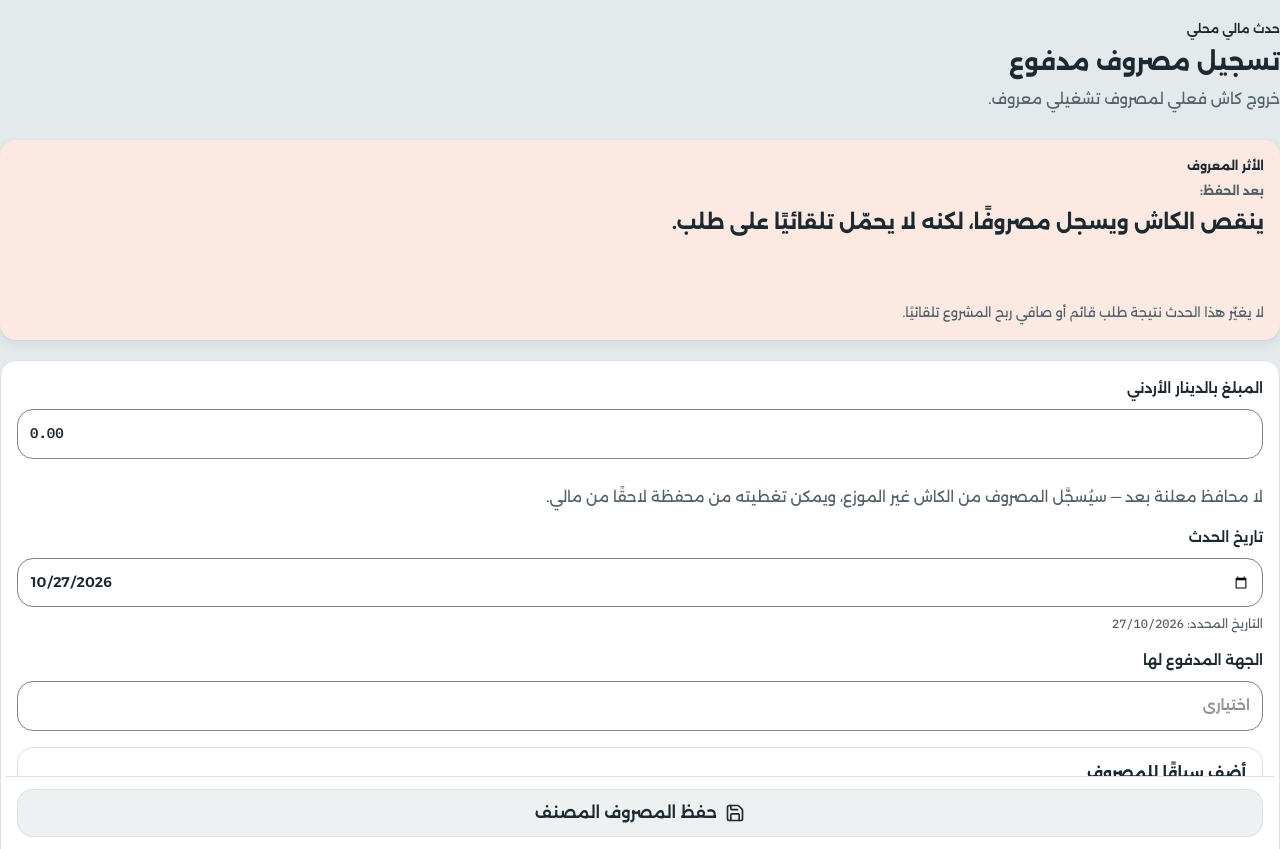
it: FinancialEventEditor guided journey (المجموعة ١) › keeps the path-guidance notes: suppliers link and honest referrals to the implemented homes
The image size is (1280, 849).
Click the text "أضف سياقًا للمصروف".
click(1166, 772)  # box [1087, 763, 1246, 782]
(page scrolled)
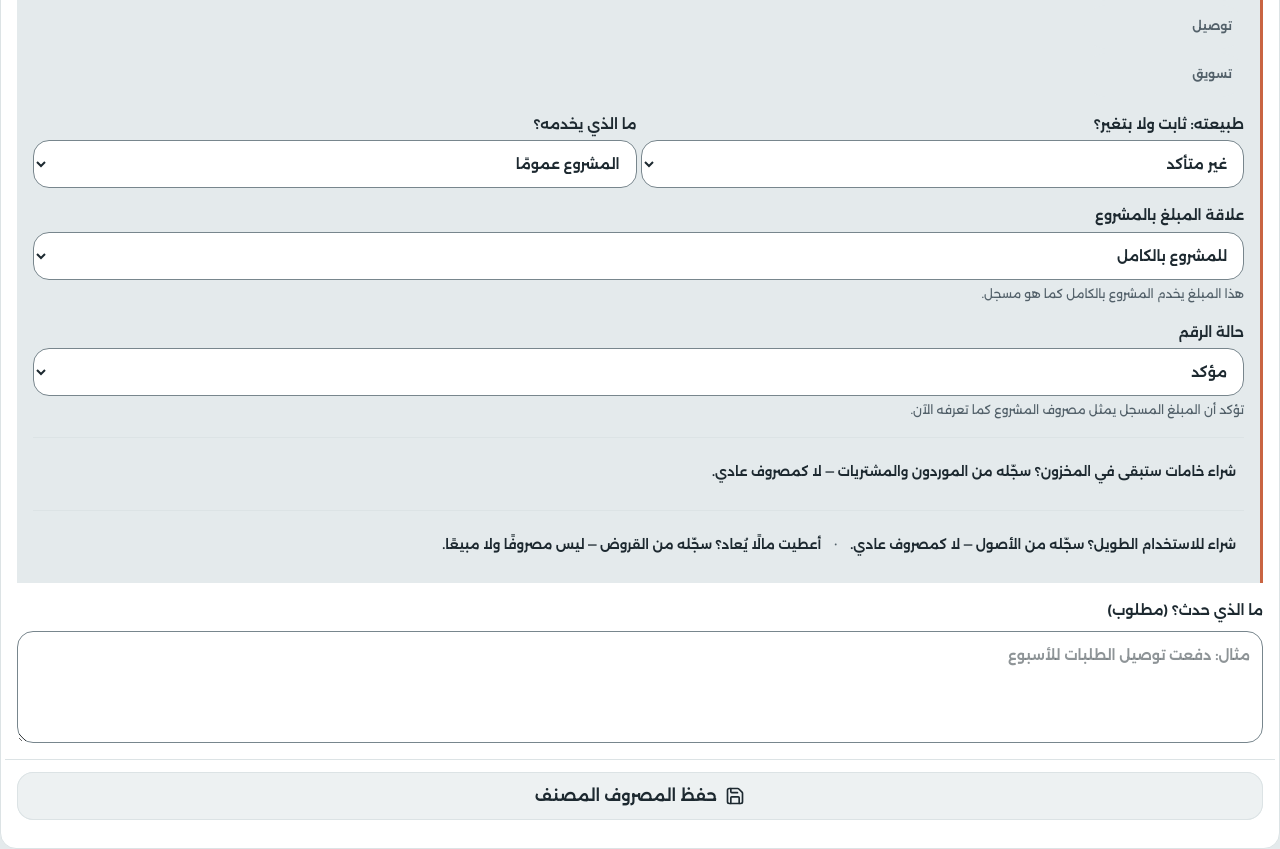
Check: the button "سجّله من الموردون والمشتريات — لا كمصروف عادي" is shown, box [704, 450, 1244, 494]
Check: the button "شراء للاستخدام الطويل؟ سجّله من الأصول — لا كمصروف عادي." is shown, box [842, 523, 1244, 567]
Check: the button "أعطيت مالًا يُعاد؟ سجّله من القروض — ليس مصروفًا ولا مبيعًا." is shown, box [434, 523, 829, 567]
